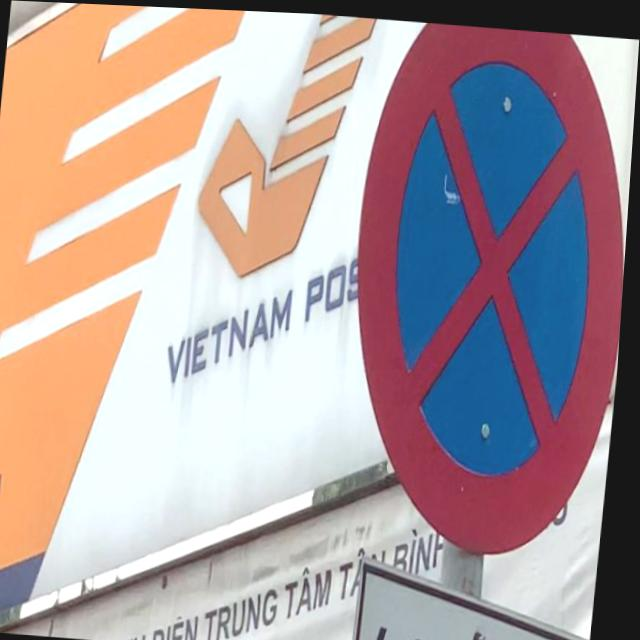Cam dung xe va do xe: (326, 14, 640, 575)
